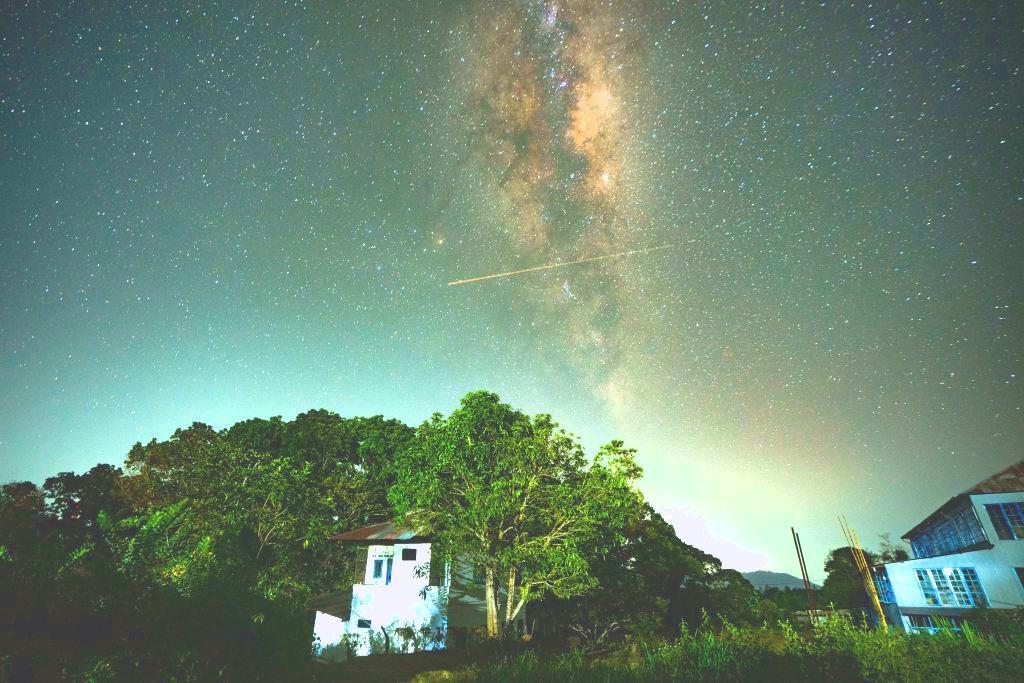meteorite: (434, 258, 583, 293)
